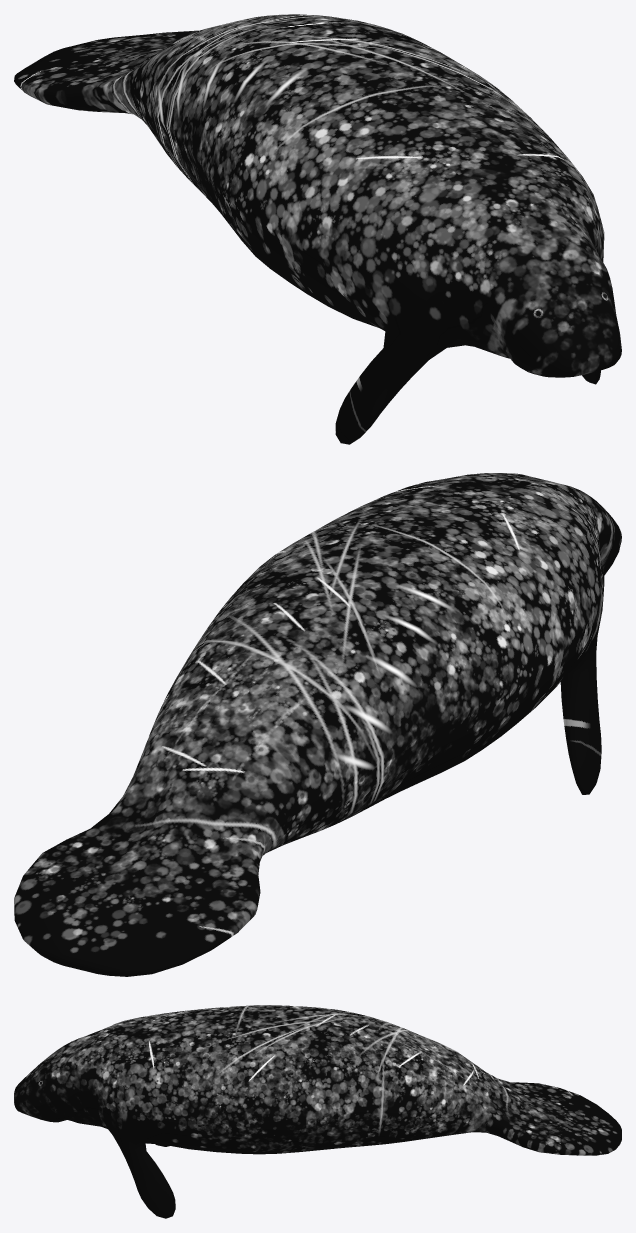
The model's file is dangling_parts.glb.
3 renders of one model, top to bottom at view 1: azimuth 30°, elevation 25°; view 2: azimuth 150°, elevation 25°; view 3: azimuth 270°, elevation 25°, orthographic. The views are drawn at different scales.
Visible parts, largest first — view 1: pCube4; view 2: pCube4; view 3: pCube4.
Boxes of the visible parts, left/top/right/bottom form: pCube4: left=14, top=14, right=621, bottom=444; pCube4: left=14, top=473, right=621, bottom=976; pCube4: left=14, top=1005, right=621, bottom=1218.
Size of what is drawn, in the model's own units: 7.23 by 6.75 by 22.66.
Materials: 1 (1 with a texture image).
